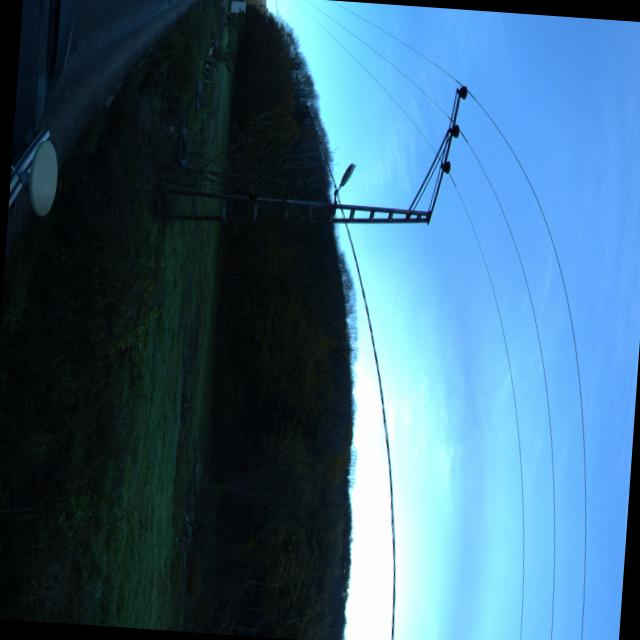Utility Pole Information Plate: (248, 195, 255, 200)
